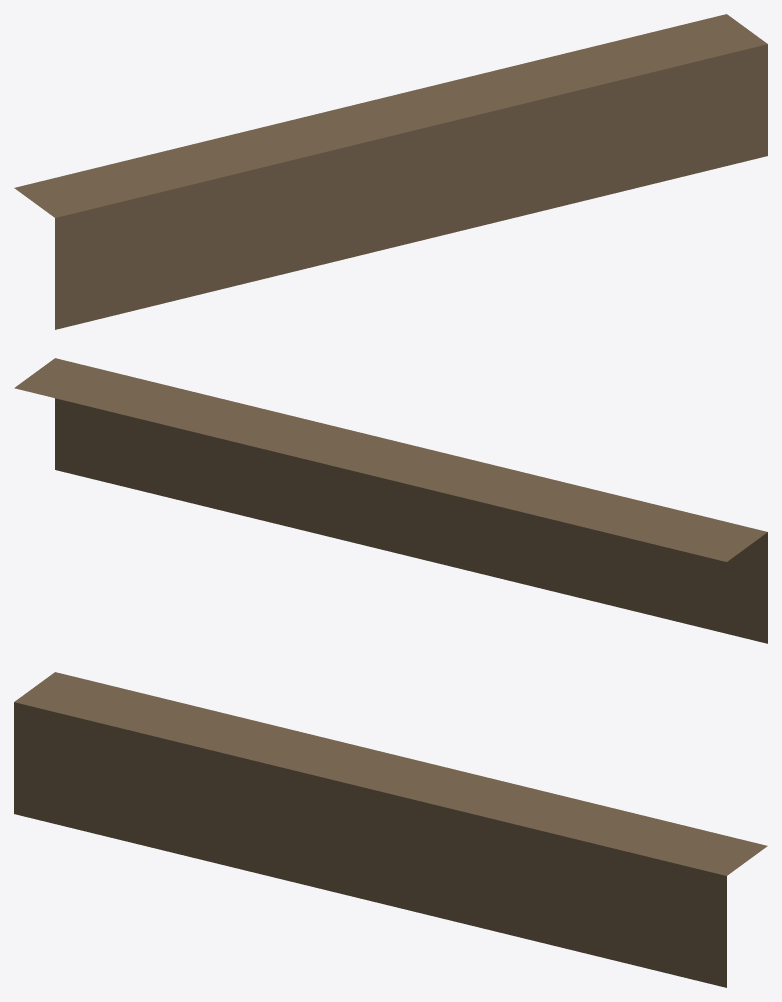
Rendered from 2_foundation_trim_straight.FBX.
The picture shows the model from 3 angles, top to bottom: view 1: azimuth 30°, elevation 25°; view 2: azimuth 150°, elevation 25°; view 3: azimuth 330°, elevation 25°; orthographic projection.
Parts seen in each view (by area): view 1: 2_foundation_trim_straight; view 2: 2_foundation_trim_straight; view 3: 2_foundation_trim_straight.
Part boxes in pixels (x1,y1,x2,y2): 2_foundation_trim_straight: (14, 14, 767, 329); 2_foundation_trim_straight: (14, 358, 767, 643); 2_foundation_trim_straight: (14, 672, 767, 987).
Bounding box in the file's own units: 200 × 30 × 20.
